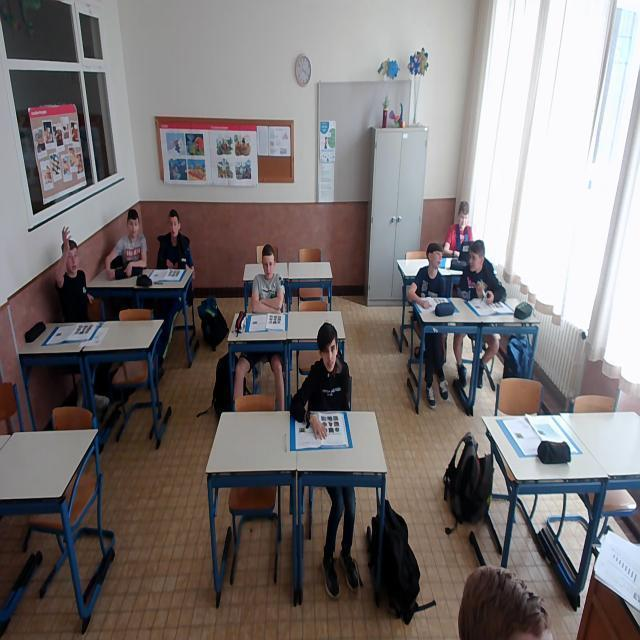Looking away: (467, 246, 483, 272), (427, 250, 442, 270)
Looking forward: (320, 344, 338, 372), (262, 254, 275, 280), (127, 220, 139, 237), (170, 217, 178, 237)
Raising hand: (52, 232, 92, 328)
